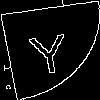Y: (25, 24, 72, 75)
